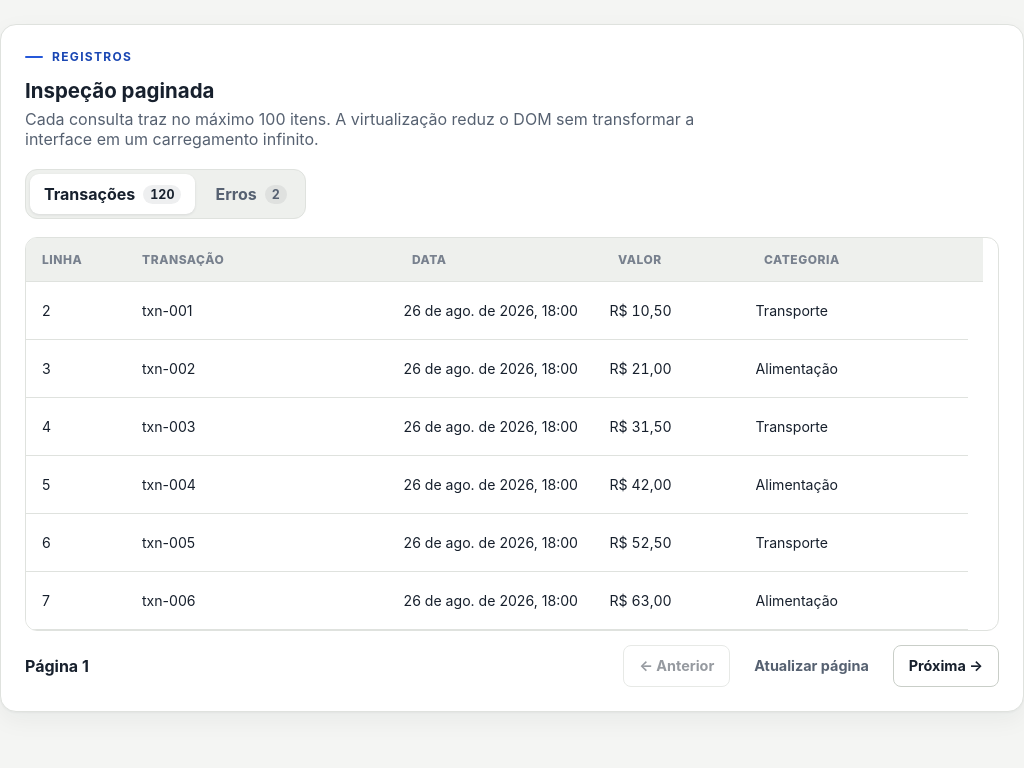
Test: ImportRecordsPanel › navega por cursor mantendo somente a página atual e virtualiza as linhas montadas
This screenshot has width=1024, height=768.
Expected: the text "txn-001" is shown, [142,302,193,319]
Expected: the text "Página 1" is shown, [25,656,89,676]
Click the button "Próxima →" at [946, 666], box [893,645,999,687]
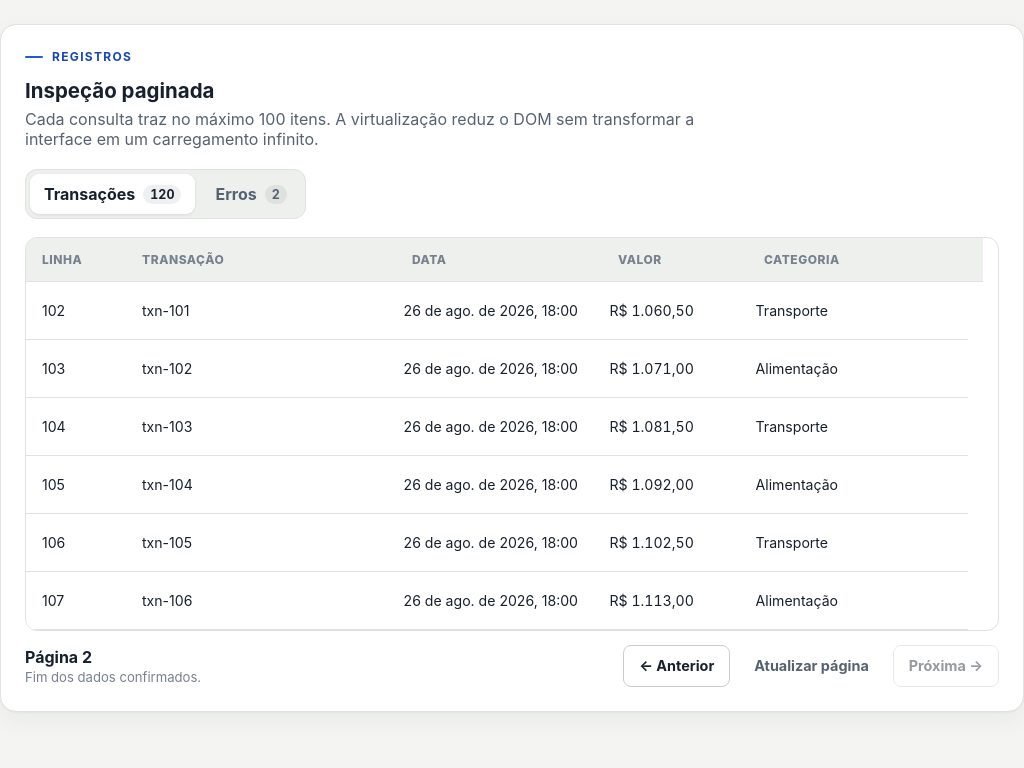
Now the text "txn-101" is shown, box [142,302,189,319]
Now the text "Página 2" is shown, box [25,647,92,667]
Now the text "txn-001" is gone
Click the button "← Anterior" at [677, 666], box [623,645,730,687]
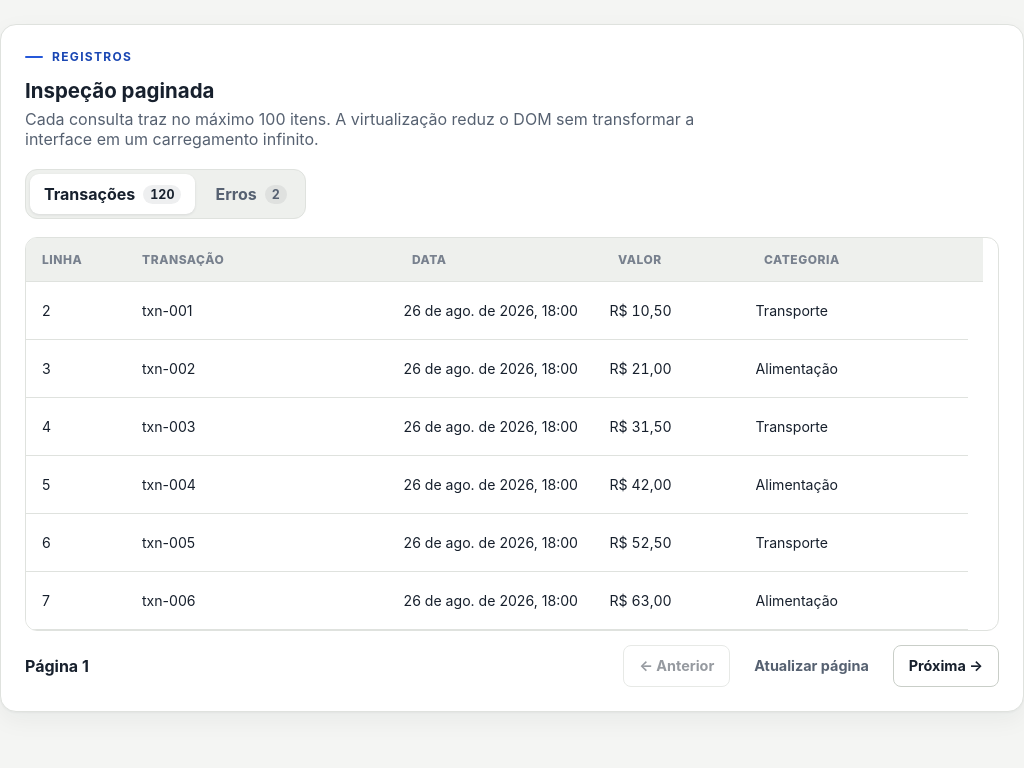
Now the text "txn-001" is shown, box [142,302,193,319]
Now the text "Página 1" is shown, box [25,656,89,676]
